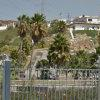Tree: (46, 31, 89, 68)
